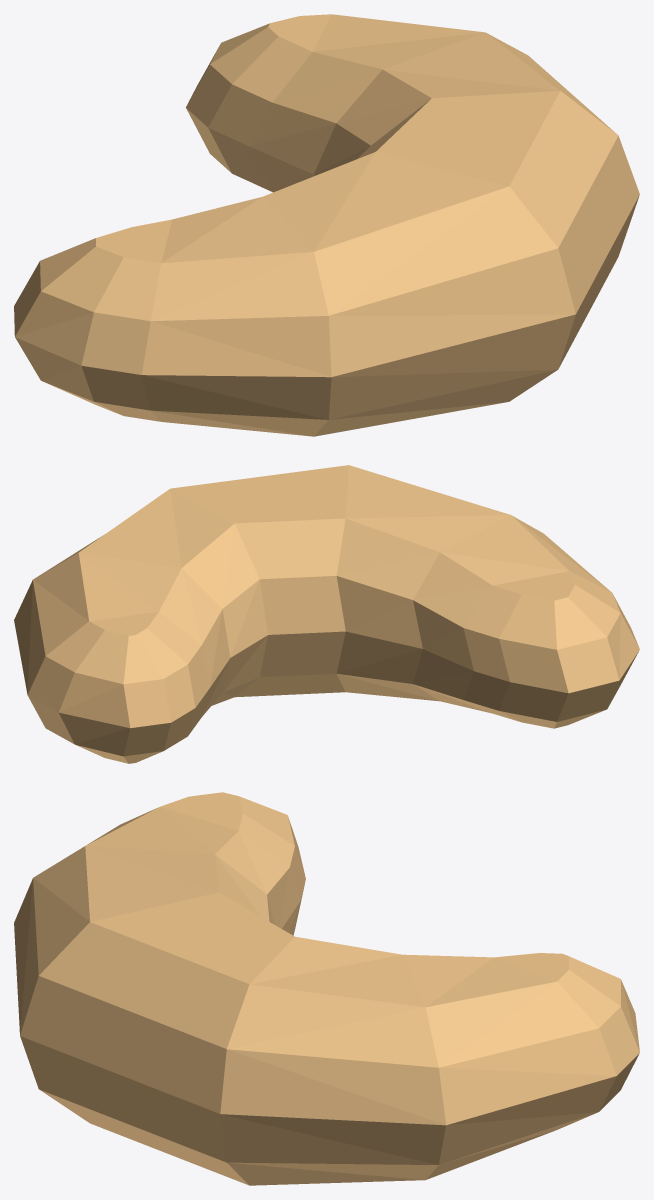
Rendered from cashew.raw.glb.
3 renders of one model, top to bottom at view 1: azimuth 30°, elevation 25°; view 2: azimuth 150°, elevation 25°; view 3: azimuth 270°, elevation 25°, orthographic. The views are drawn at different scales.
Visible parts, largest first — view 1: Cashew; view 2: Cashew; view 3: Cashew.
Boxes of the visible parts, bbox=[...] form: Cashew: bbox=[14, 14, 639, 436]; Cashew: bbox=[14, 465, 639, 763]; Cashew: bbox=[14, 792, 639, 1185].
Size of the model in its own units: 87.9 by 28.28 by 79.66.
Materials: 1 (1 with a texture image).
